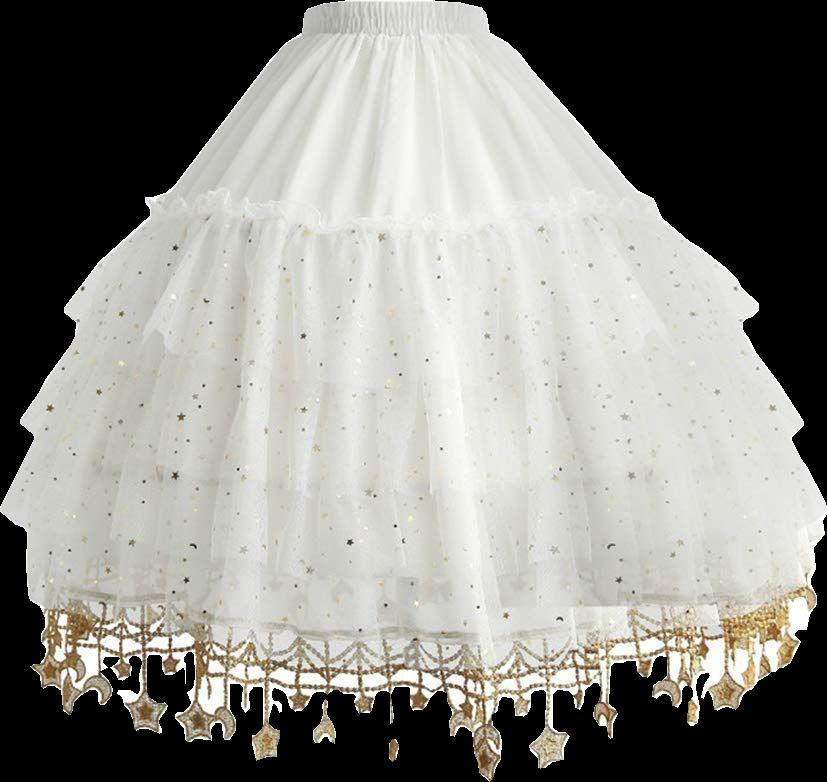Hemline: (23, 598, 807, 740), (0, 502, 826, 619), (17, 416, 811, 501), (54, 296, 755, 389)
Waistline: (147, 206, 657, 238), (303, 0, 487, 17), (298, 29, 494, 41)
